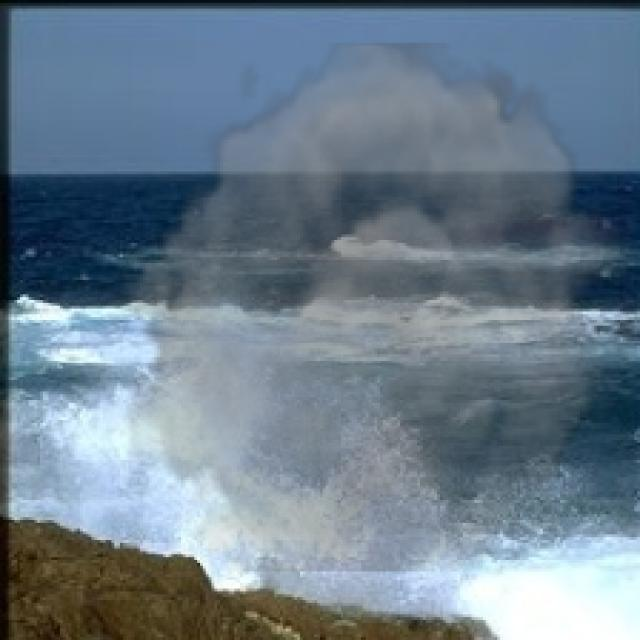smoke: (106, 43, 637, 571)
